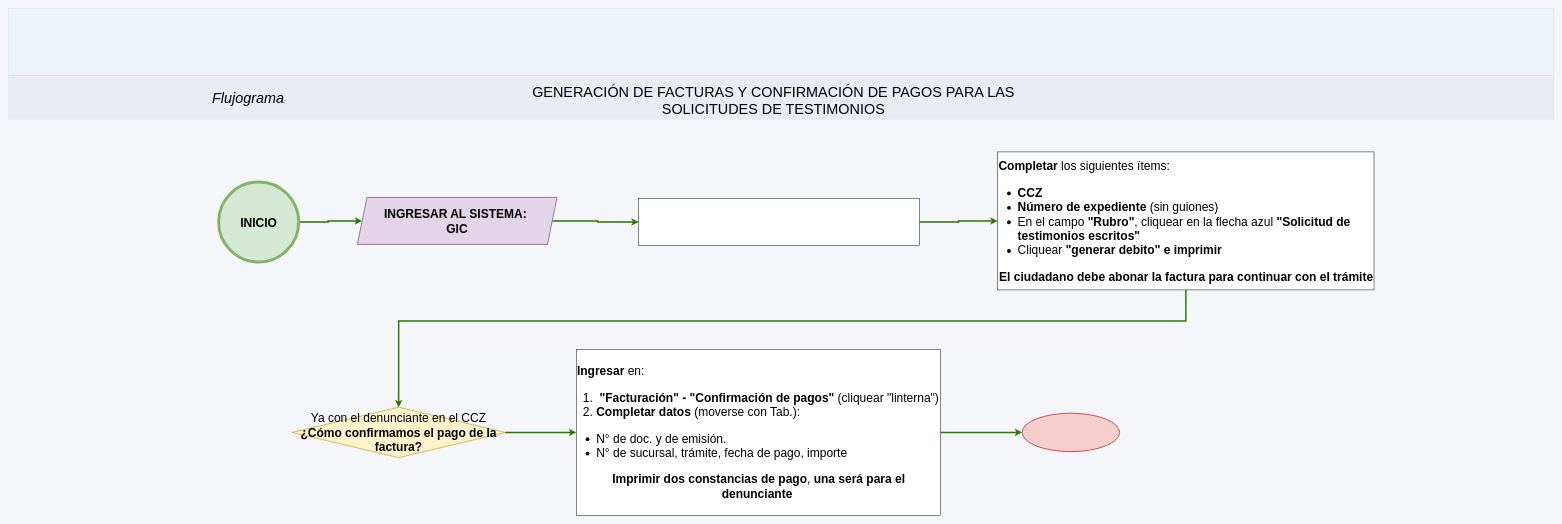
Some shapes in this 1562 by 524 pixel diagram are drawn without their labels. The shapes that lost their labels are listed below. From the top down, each one's centre as x and y in pixels, then its label:
(778,221): Ingresar a: "Facturación" - "Cobro de trámites" (cliquear "linterna")
(1070,432): FIN
